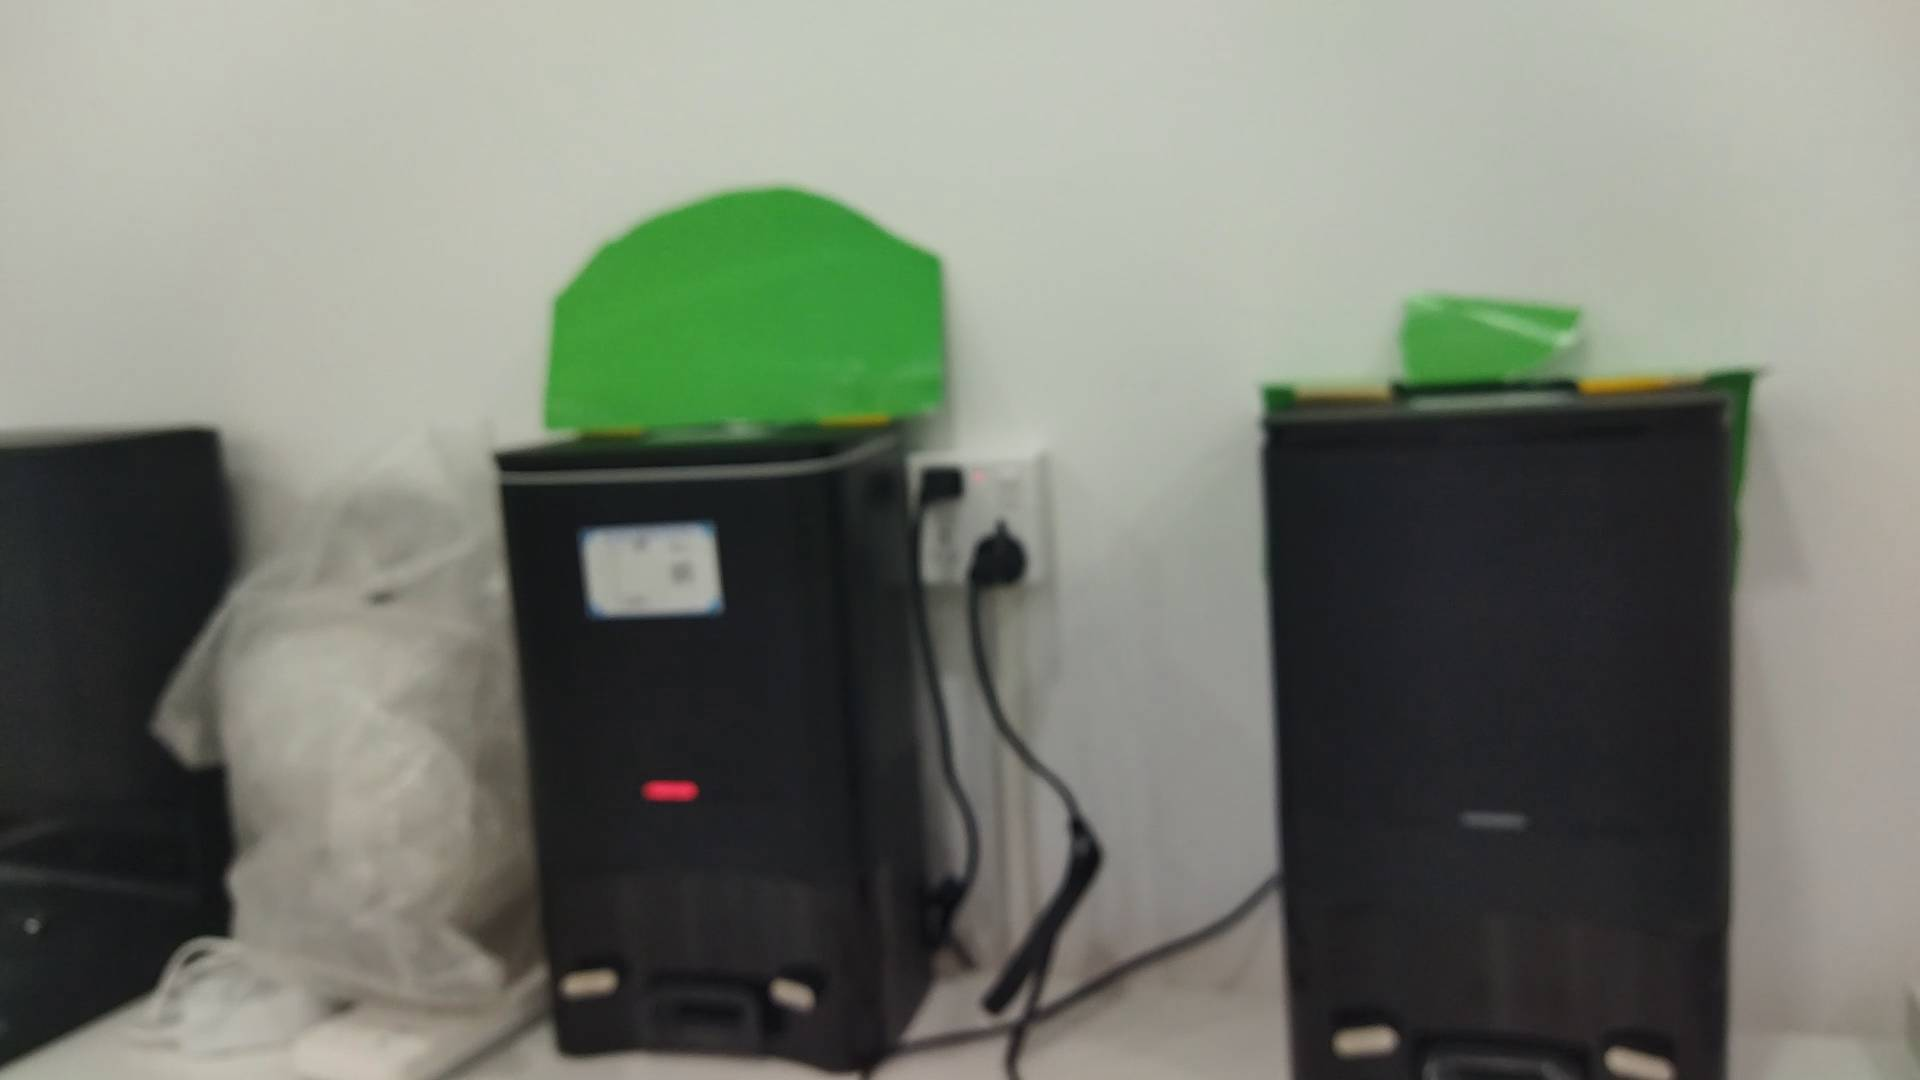dust collecting barrel: (1261, 389, 1737, 1080), (493, 417, 934, 1069), (1, 422, 235, 1068)
